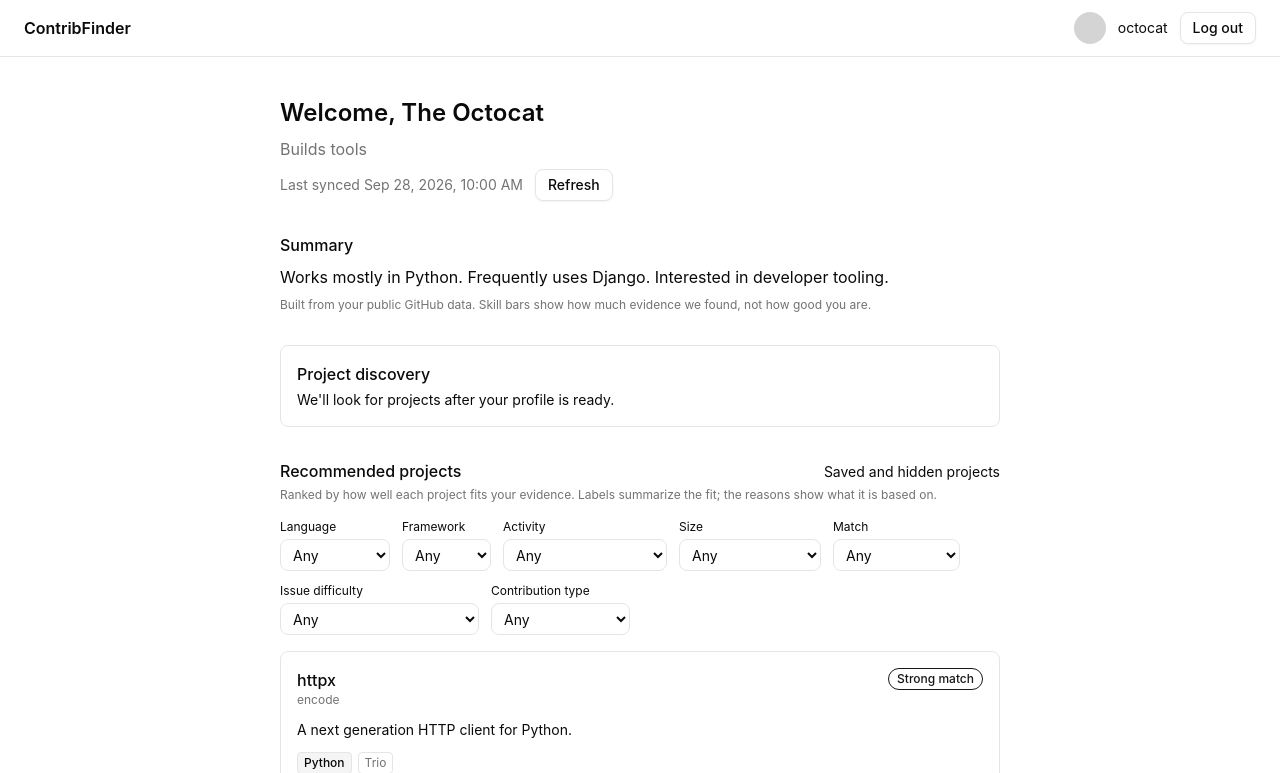
it: recommendation cards › filters by issue difficulty and contribution type through the URL
Select "Beginner issues" in the dropdown labelled "Issue difficulty". click: (380, 619)
box: left=280, top=603, right=479, bottom=635
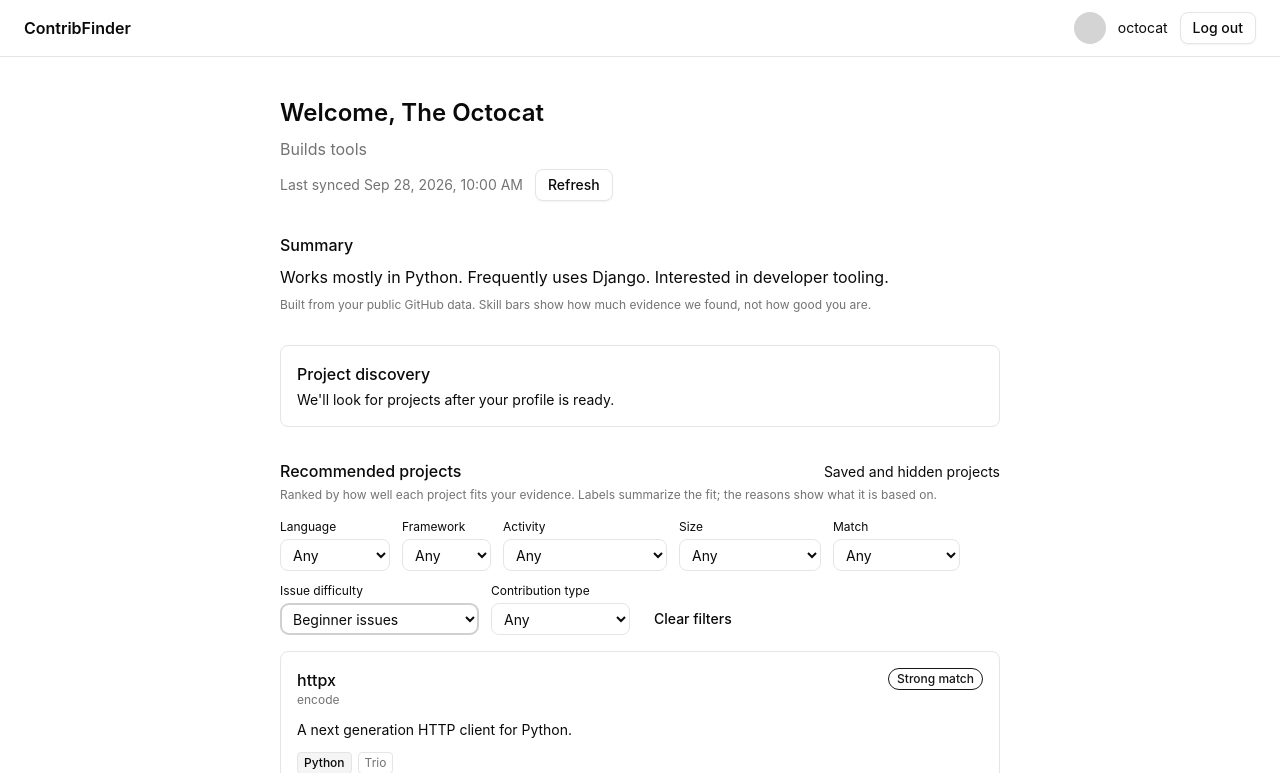
Select "Documentation" in the dropdown labelled "Contribution type". click: (560, 619)
box: left=491, top=603, right=630, bottom=635
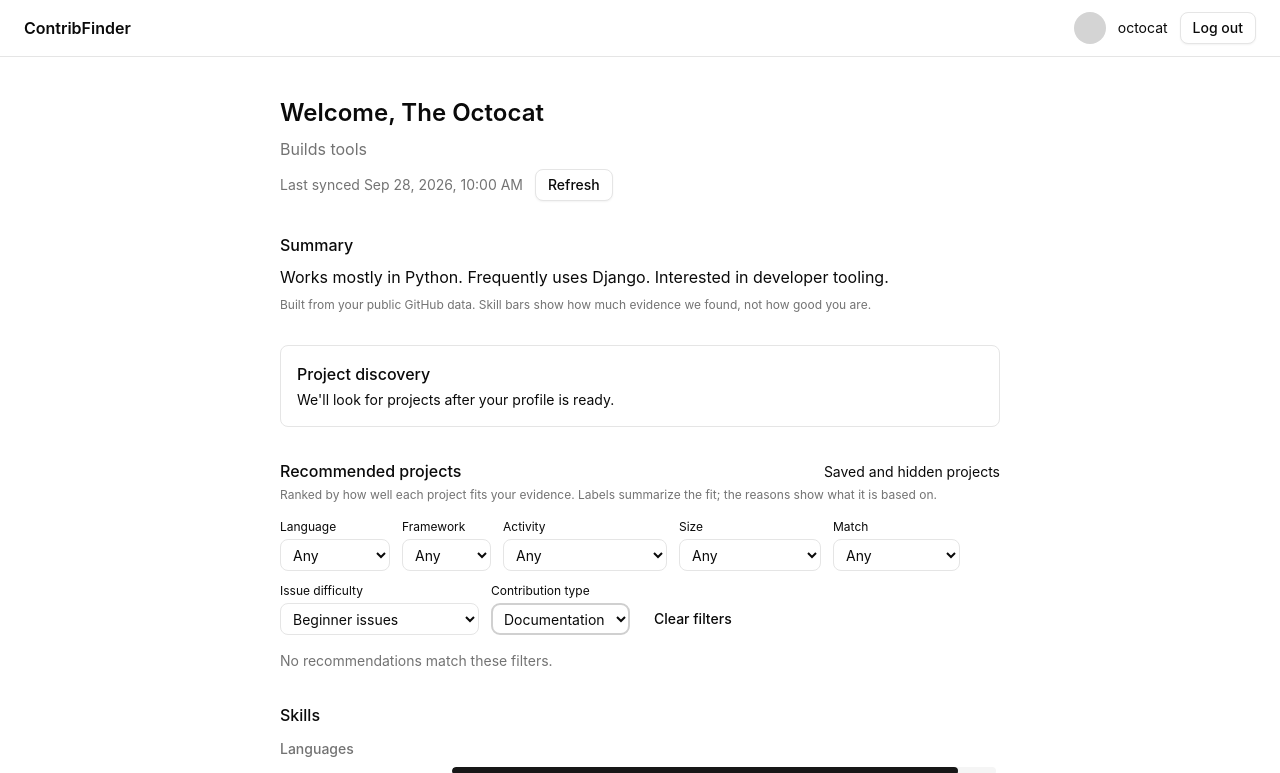
Expected: the text "No recommendations match these filters." is shown, left=280, top=652, right=553, bottom=669
